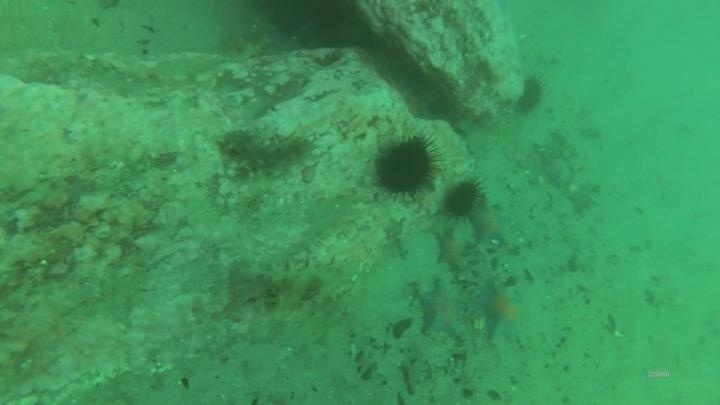echinus: (370, 132, 442, 200), (440, 178, 484, 221), (514, 74, 547, 116)
holothurian: (227, 253, 357, 318), (216, 124, 315, 178), (213, 30, 276, 64)
starfish: (472, 279, 532, 345), (415, 278, 472, 342), (467, 202, 513, 249), (431, 226, 471, 272)
